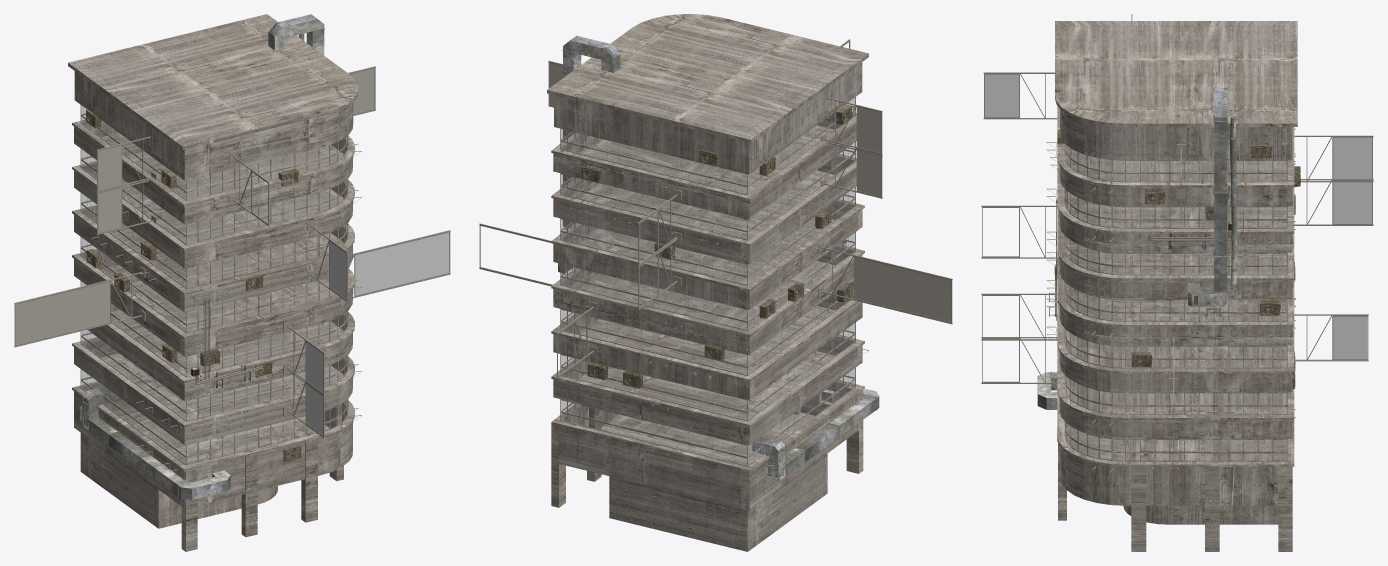
Rendered from portfolio-building-2.glb.
The picture shows the model from 3 angles, left to right: view 1: azimuth 30°, elevation 25°; view 2: azimuth 150°, elevation 25°; view 3: azimuth 270°, elevation 25°; orthographic projection. The views are drawn at different scales.
Parts seen in each view (by area): view 1: Building, Window, Vents, Cube.002, AC, Wire, artwork_apot_D.001, artwork_apot_B.001, artwork_apot_C.001; view 2: Building, Window, Vents, AC; view 3: Building, Window, Vents, AC, artwork_apot_H.001, artwork_apot_H.002, artwork_apot_E.001, artwork_apot_I.001, Wire.
Part boxes in pixels (left/top/right/bottom): Building: left=14, top=14, right=450, bottom=551; Window: left=81, top=106, right=346, bottom=464; Vents: left=80, top=14, right=324, bottom=500; Cube.002: left=355, top=232, right=449, bottom=295; AC: left=86, top=109, right=301, bottom=461; Wire: left=191, top=297, right=262, bottom=388; artwork_apot_D.001: left=330, top=242, right=346, bottom=299; artwork_apot_B.001: left=306, top=342, right=323, bottom=392; artwork_apot_C.001: left=306, top=385, right=323, bottom=434; Building: left=479, top=14, right=952, bottom=551; Window: left=561, top=98, right=854, bottom=464; Vents: left=562, top=35, right=879, bottom=480; AC: left=558, top=104, right=852, bottom=388; Building: left=981, top=14, right=1373, bottom=551; Window: left=1065, top=145, right=1286, bottom=460; Vents: left=1037, top=88, right=1238, bottom=409; AC: left=1056, top=129, right=1300, bottom=441; artwork_apot_H.001: left=1333, top=137, right=1371, bottom=178; artwork_apot_H.002: left=1333, top=182, right=1371, bottom=223; artwork_apot_E.001: left=985, top=74, right=1018, bottom=116; artwork_apot_I.001: left=1333, top=316, right=1366, bottom=358; Wire: left=1049, top=156, right=1231, bottom=320.
Size of the model in its own units: 21.31 by 19.47 by 15.28.
Materials: 5 (4 with a texture image).
